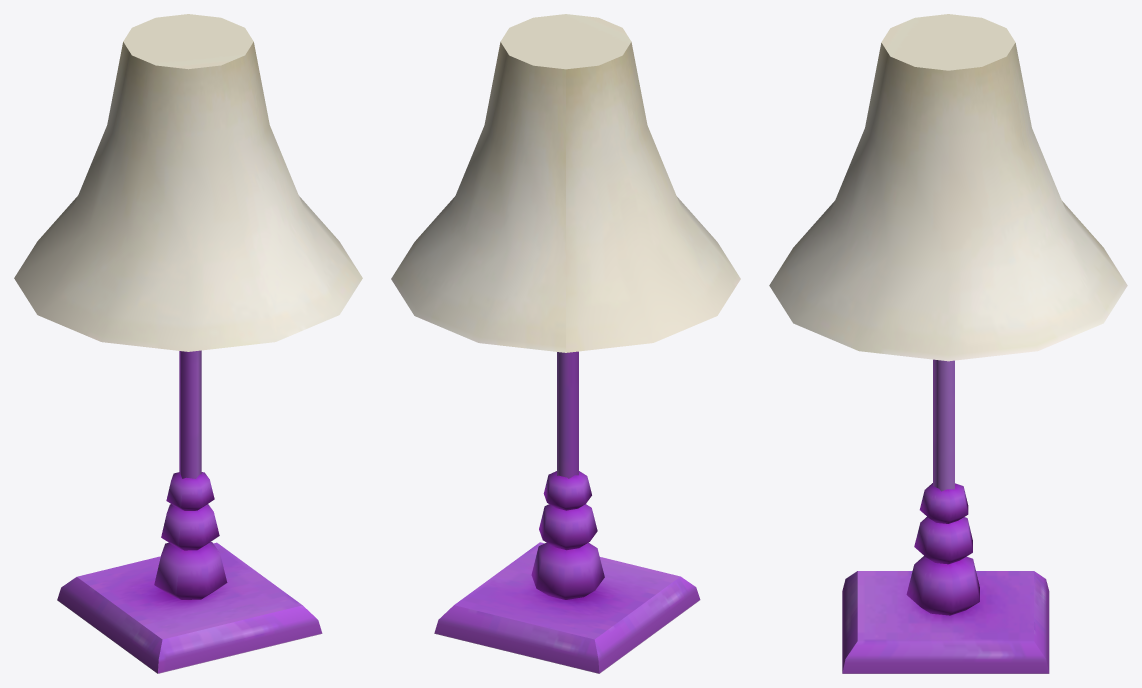
The model's file is furni_0200137_01.FBX.
3 views of the same model, side by side, from view 1: azimuth 30°, elevation 25°; view 2: azimuth 150°, elevation 25°; view 3: azimuth 270°, elevation 25° (orthographic). The views are drawn at different scales.
Parts seen in each view (by area): view 1: furni_0200137_01; view 2: furni_0200137_01; view 3: furni_0200137_01.
Part boxes in pixels (x1=…): furni_0200137_01: x1=14, y1=14, x2=362, y2=673; furni_0200137_01: x1=391, y1=14, x2=740, y2=673; furni_0200137_01: x1=769, y1=14, x2=1127, y2=673.
Bounding box in the file's own units: 34.11 × 61.96 × 34.11.
